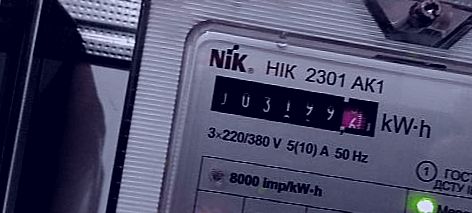0: (215, 83, 230, 105), (238, 86, 253, 107)
1: (282, 91, 294, 112)
3: (260, 92, 273, 112)
6: (347, 112, 359, 129)
9: (323, 100, 337, 120), (303, 95, 316, 116)
screen: (202, 68, 389, 144)
